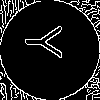Y: (25, 25, 72, 59)
